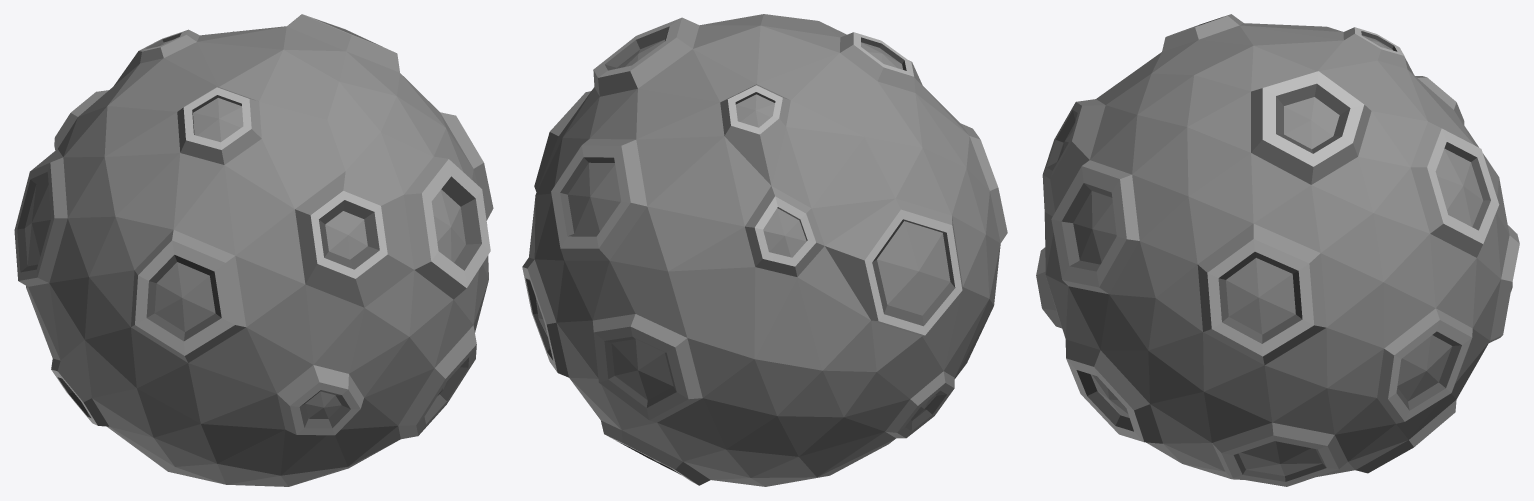
The model's file is Planet_05.glb.
3 renders of one model, left to right at view 1: azimuth 30°, elevation 25°; view 2: azimuth 150°, elevation 25°; view 3: azimuth 270°, elevation 25°, orthographic.
Parts seen in each view (by area): view 1: Planet_05; view 2: Planet_05; view 3: Planet_05.
Part boxes in pixels (<box>): Planet_05: <box>14,14,493,486</box>; Planet_05: <box>522,14,1007,486</box>; Planet_05: <box>1036,14,1519,486</box>.
Size of what is drawn, in the model's own units: 4.48 by 4.29 by 4.45.
Materials: 1 (1 with a texture image).
